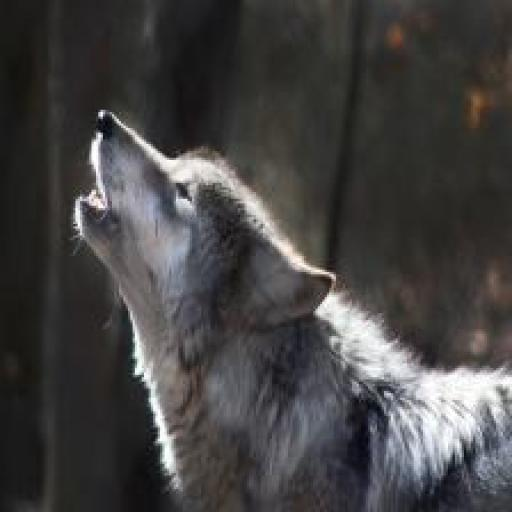wolf: (75, 110, 512, 508)
